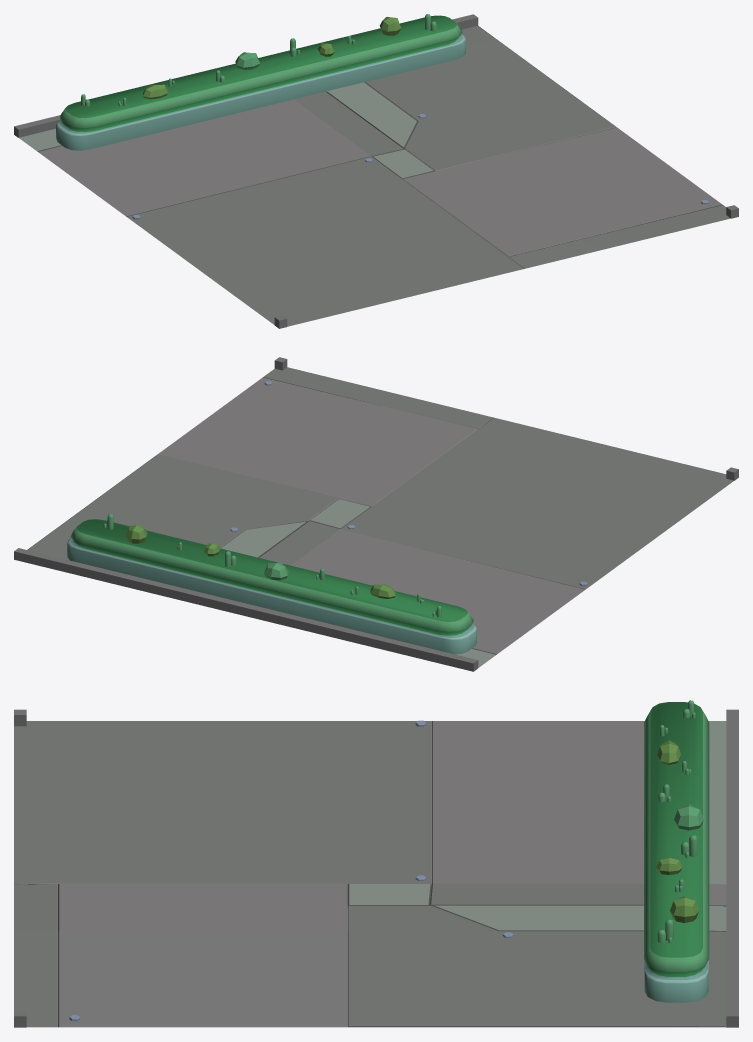
The model's file is Fork_A.gltf.
The picture shows the model from 3 angles, top to bottom: view 1: azimuth 30°, elevation 25°; view 2: azimuth 150°, elevation 25°; view 3: azimuth 270°, elevation 25°; orthographic projection. The views are drawn at different scales.
Visible parts, largest first — view 1: Scifi_Panel_04_Plaza014_group4.011_Scifi_Panel_04_Plaza014_.; view 2: Scifi_Panel_04_Plaza014_group4.011_Scifi_Panel_04_Plaza014_.; view 3: Scifi_Panel_04_Plaza014_group4.011_Scifi_Panel_04_Plaza014_..
Part boxes in pixels (box(x1,y1,x2,y2)): Scifi_Panel_04_Plaza014_group4.011_Scifi_Panel_04_Plaza014_.: box(14, 14, 738, 328); Scifi_Panel_04_Plaza014_group4.011_Scifi_Panel_04_Plaza014_.: box(14, 357, 738, 671); Scifi_Panel_04_Plaza014_group4.011_Scifi_Panel_04_Plaza014_.: box(14, 700, 738, 1027).
Size of what is drawn, in the model's own units: 10 by 0.9439 by 10.
1 material, 1 textured.
